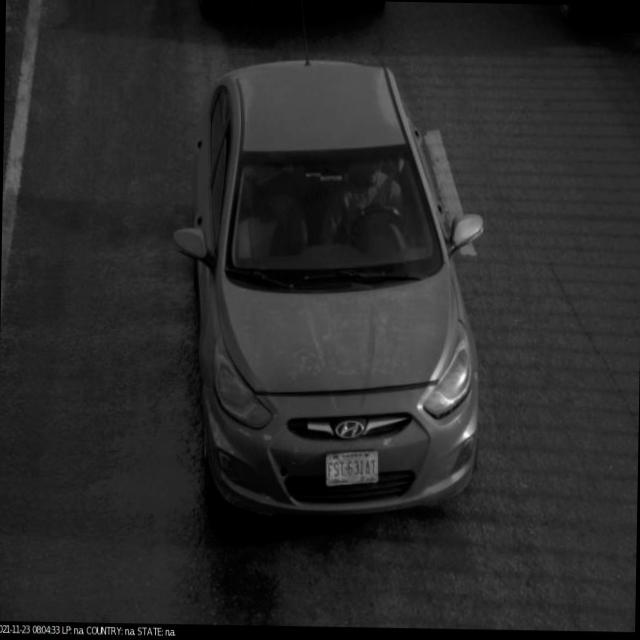person_with_seatbelt: (310, 141, 424, 276)
